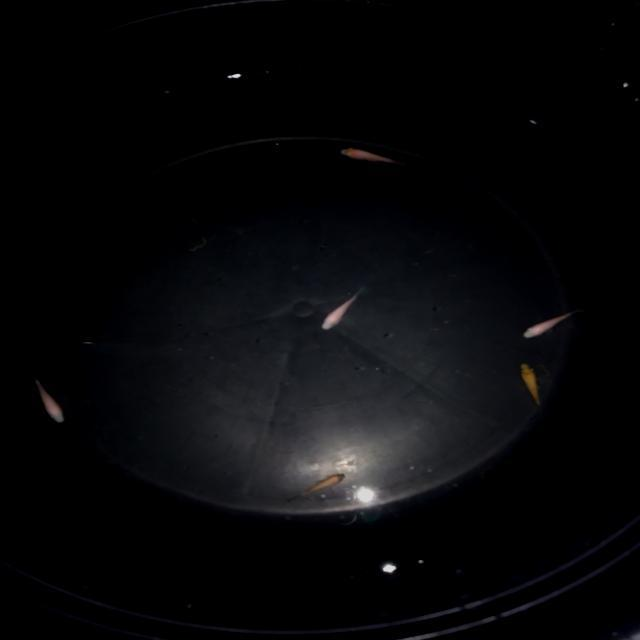nila: (511, 302, 578, 344), (278, 467, 354, 504), (312, 285, 366, 333), (27, 374, 68, 427), (334, 142, 411, 170), (514, 359, 544, 408)
